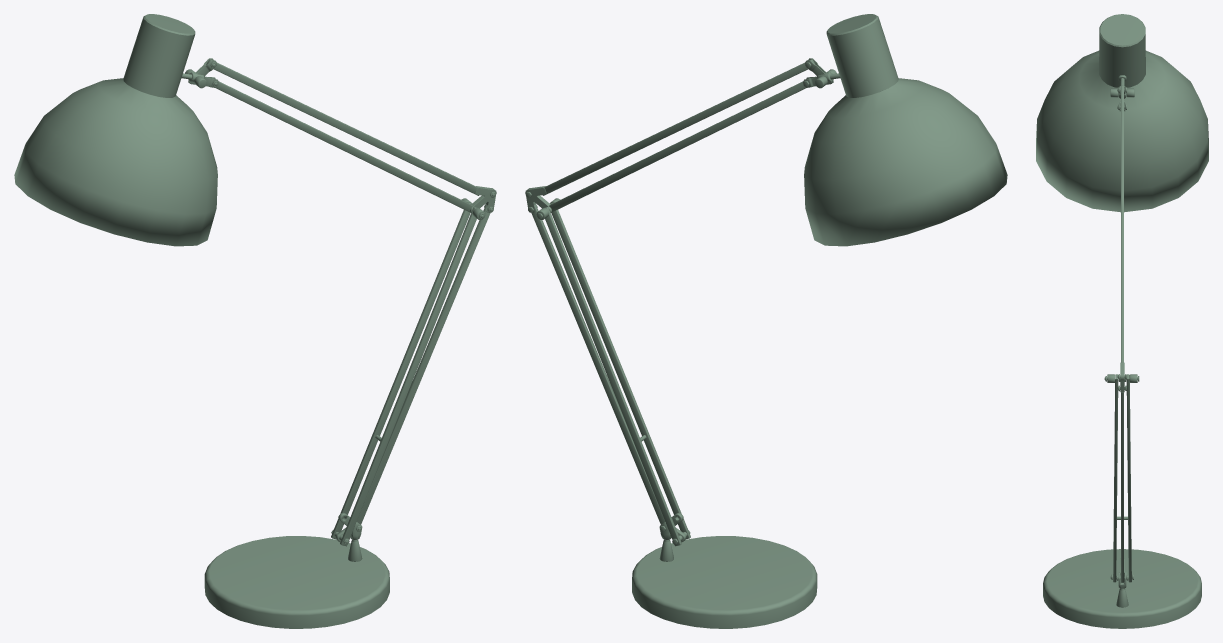
Rendered from Desk_Lamp_Gen_1.fbx.
3 renders of one model, left to right at view 1: azimuth 30°, elevation 25°; view 2: azimuth 150°, elevation 25°; view 3: azimuth 270°, elevation 25°, orthographic. The views are drawn at different scales.
Visible parts, largest first — view 1: mesh_lamp; view 2: mesh_lamp; view 3: mesh_lamp.
Boxes of the visible parts, x1=… form: mesh_lamp: x1=14, y1=14, x2=496, y2=628; mesh_lamp: x1=525, y1=14, x2=1007, y2=628; mesh_lamp: x1=1036, y1=14, x2=1208, y2=628.
Bounding box in the file's own units: 46.04 × 56.93 × 17.18.
